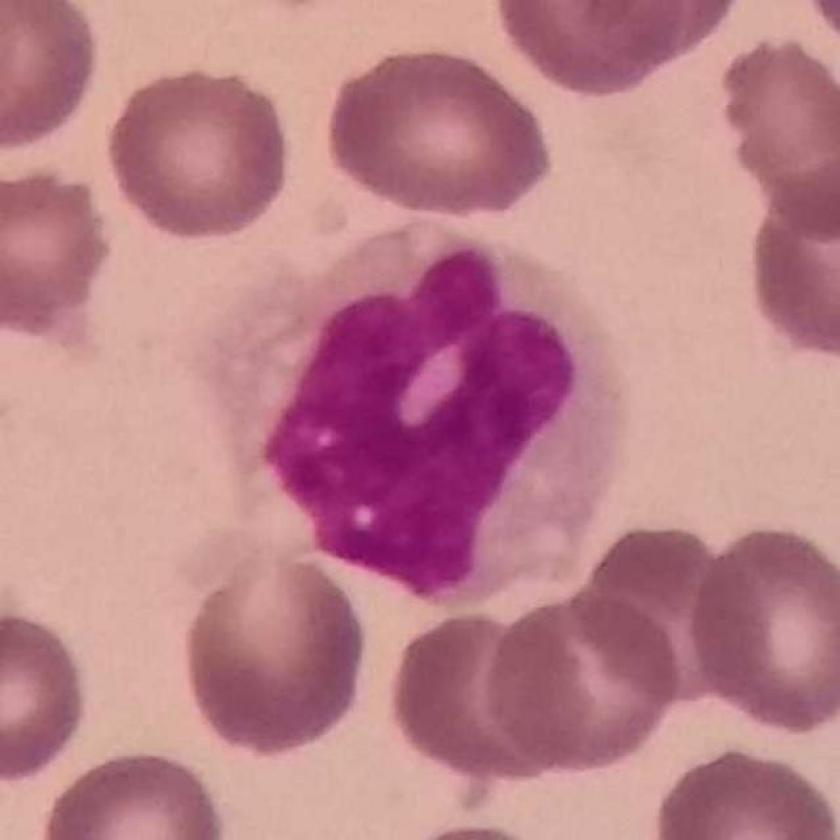monocyte: (210, 214, 643, 610)
